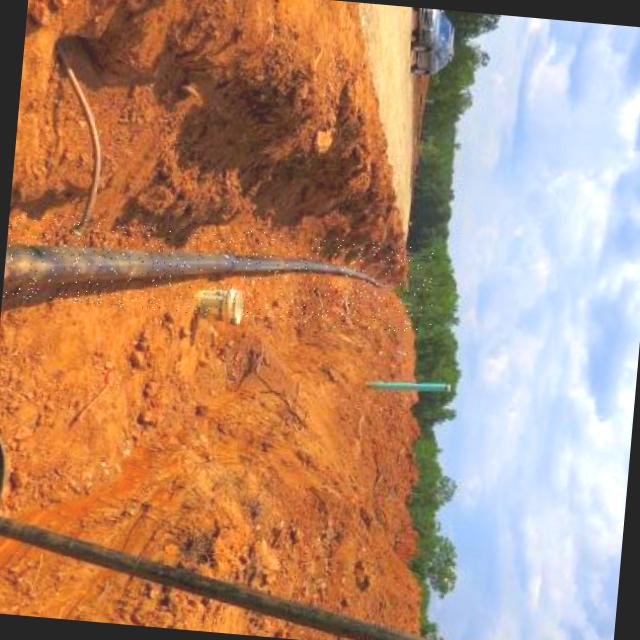gas: (2, 245, 377, 283)
